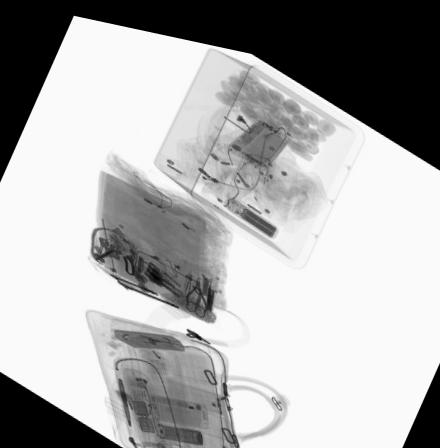Powerbank: (223, 184, 280, 228)
